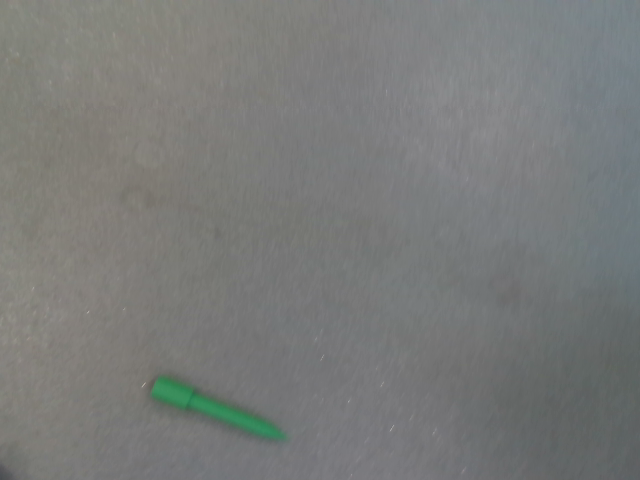Probe: (143, 370, 297, 450)
